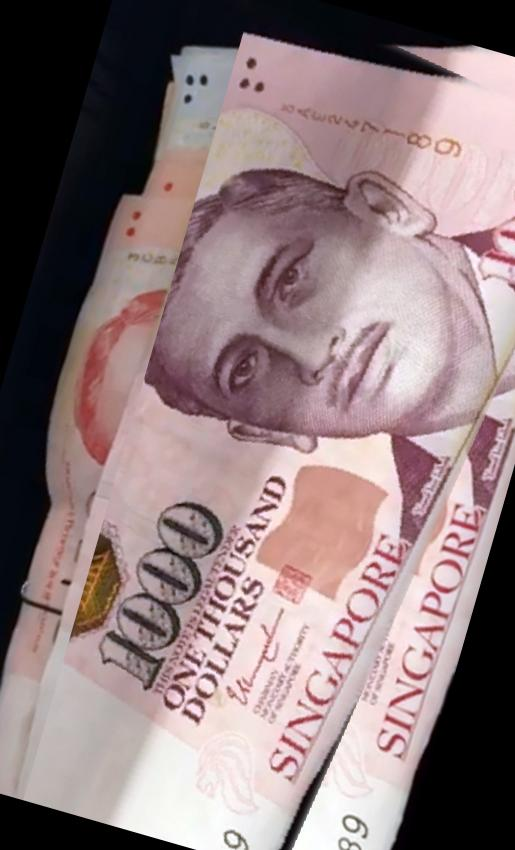1000SingaporeDollar: (22, 0, 515, 850)
